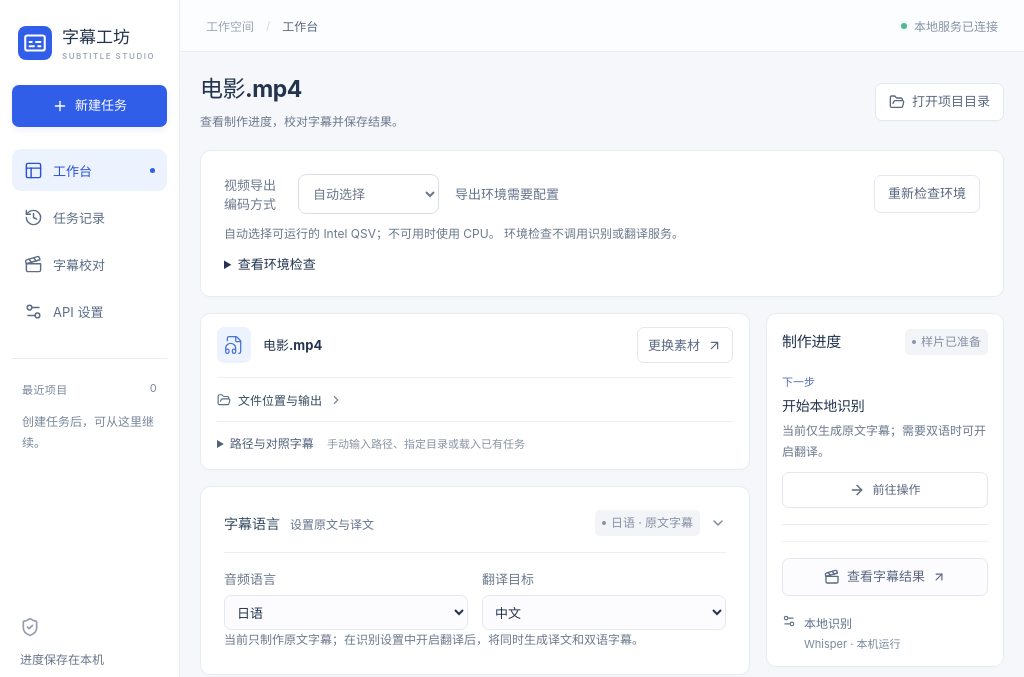
Scenario: 桌面工作台的真实操作边界 › keeps action errors in a dedicated feedback region with a working dismiss action
Click the button "打开项目目录" at coordinates (940, 102), box [875,83,1004,121]
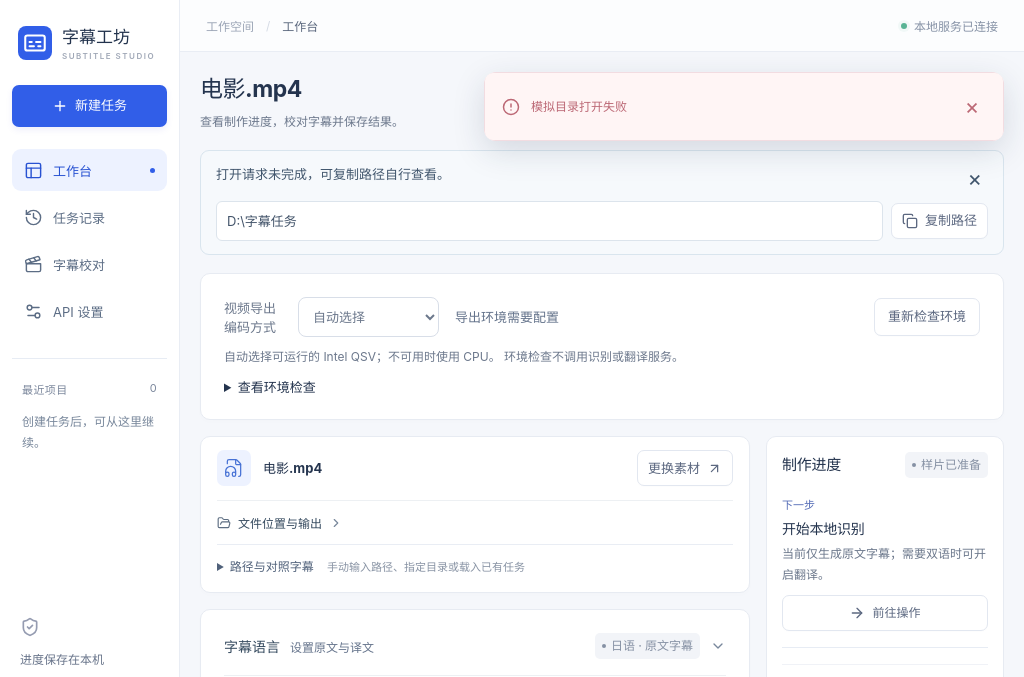
Expected: the element named "操作反馈" shows "模拟目录打开失败", [531,98,627,114]
Click the button named "关闭错误提示" at coordinates (972, 107), box [958,87,986,126]
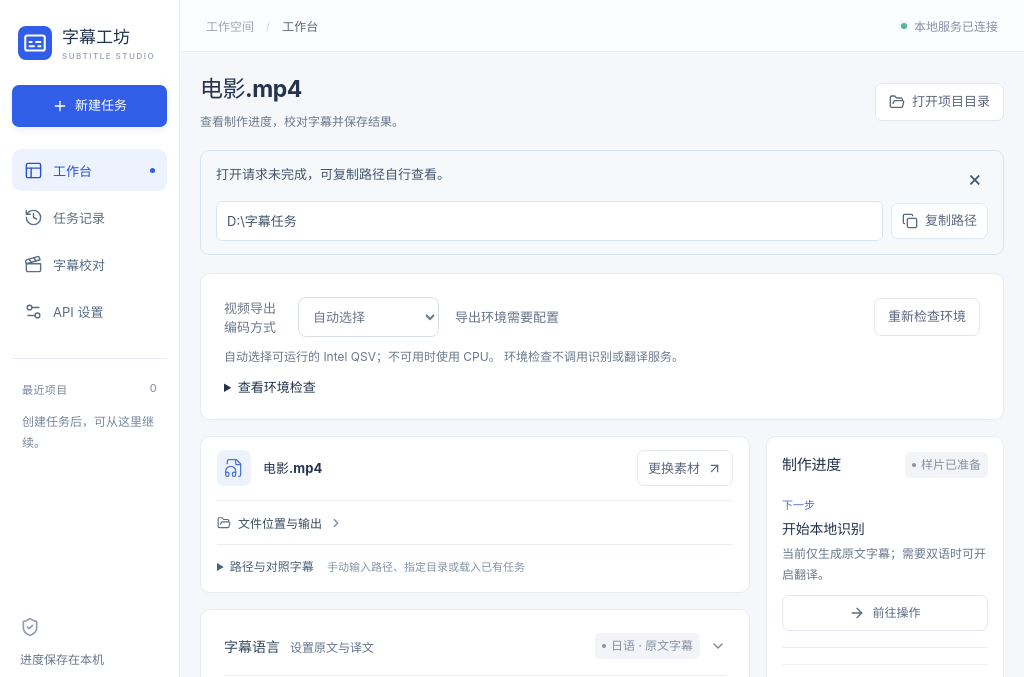
Expected: the element "操作反馈" is gone
